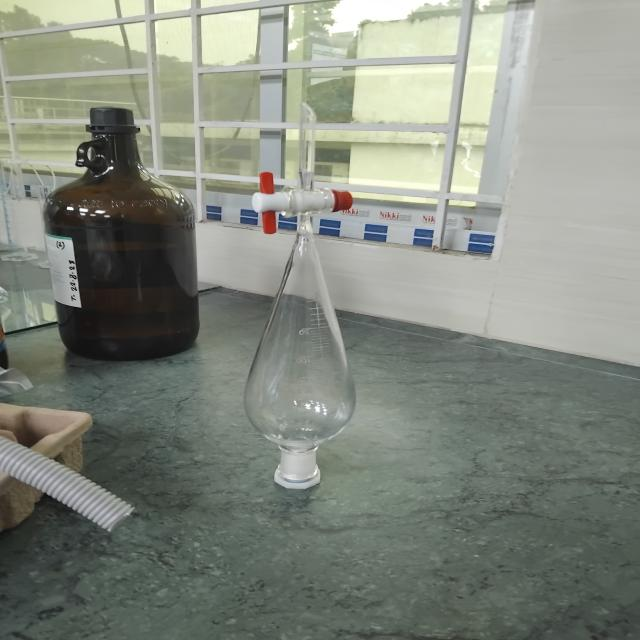Separating_Funnel: (224, 91, 398, 511)
